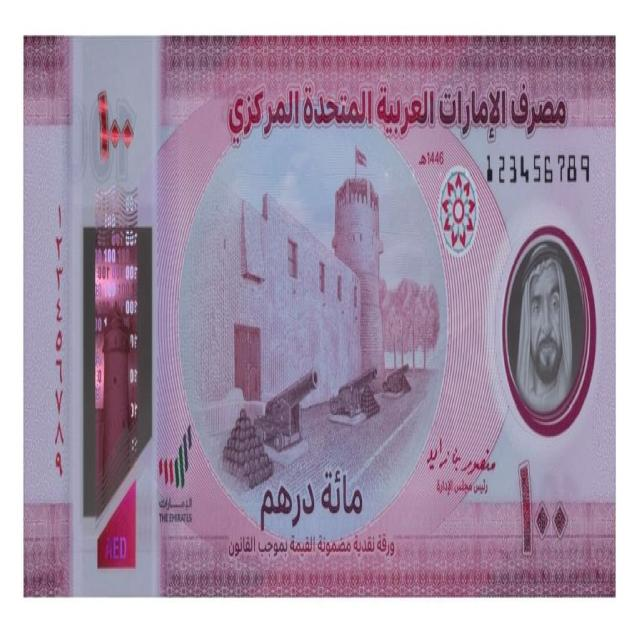100_AED: (24, 36, 615, 596)
